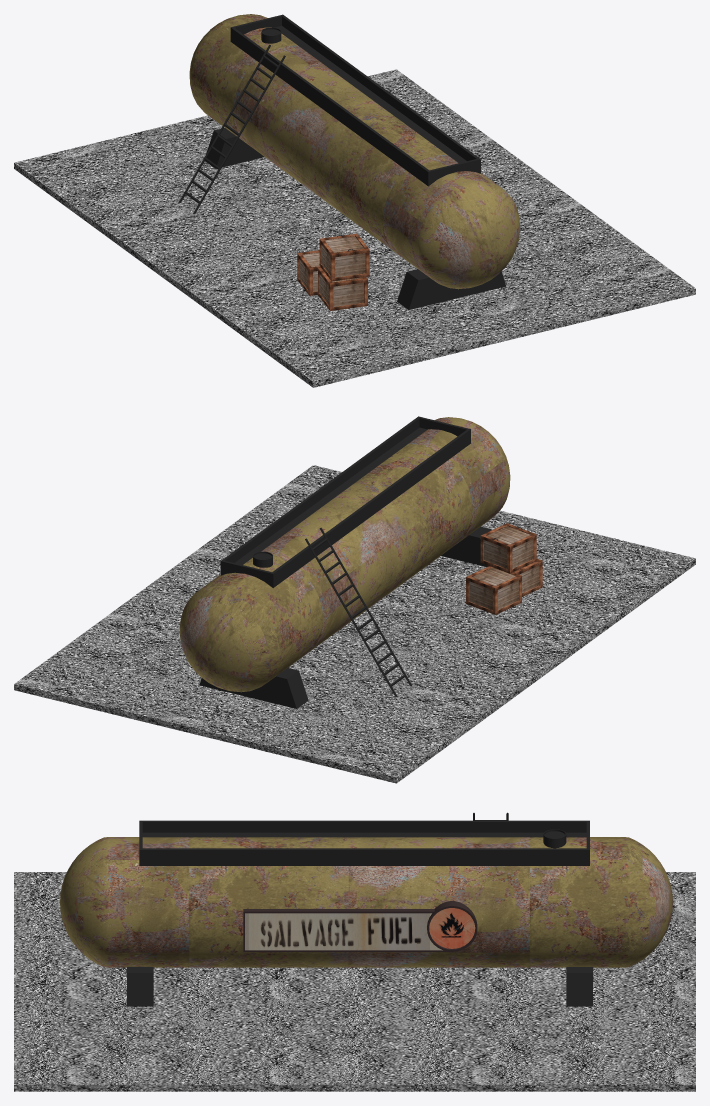
The model's file is صهريج.FBX.
3 views of the same model, one above another, from view 1: azimuth 30°, elevation 25°; view 2: azimuth 150°, elevation 25°; view 3: azimuth 270°, elevation 25° (orthographic). The views are drawn at different scales.
Visible parts, largest first — view 1: Box007, OilTank001, Box006, Group001, Line001, Plane001, Line002, Box010, Box009; view 2: Box007, OilTank001, Box006, Group001, Line002, Plane001, Box010, Box008, Line001; view 3: Box007, OilTank001, Box006, Group001, Box005, Line001, Line002, Cylinder009.
Boxes of the visible parts, bbox=[...] form: Box007: bbox=[14, 69, 695, 387]; OilTank001: bbox=[189, 14, 519, 289]; Box006: bbox=[230, 14, 480, 186]; Group001: bbox=[299, 236, 365, 306]; Line001: bbox=[397, 269, 505, 309]; Plane001: bbox=[178, 44, 285, 214]; Line002: bbox=[205, 128, 264, 168]; Box010: bbox=[319, 233, 369, 281]; Box009: bbox=[318, 268, 367, 310]; Box007: bbox=[14, 465, 695, 783]; OilTank001: bbox=[179, 417, 510, 692]; Box006: bbox=[220, 416, 470, 587]; Group001: bbox=[469, 526, 539, 610]; Line002: bbox=[199, 668, 308, 708]; Plane001: bbox=[305, 527, 412, 696]; Box010: bbox=[480, 523, 536, 573]; Box008: bbox=[466, 566, 521, 614]; Line001: bbox=[441, 526, 491, 566]; Box007: bbox=[14, 872, 695, 1091]; OilTank001: bbox=[60, 837, 672, 967]; Box006: bbox=[139, 820, 589, 865]; Group001: bbox=[245, 908, 475, 950]; Box005: bbox=[243, 909, 452, 951]; Line001: bbox=[127, 967, 153, 1006]; Line002: bbox=[566, 967, 592, 1006]; Cylinder009: bbox=[427, 901, 477, 951].
Bounding box in the file's own units: 657 × 234 × 890.
8 materials, 6 textured.
